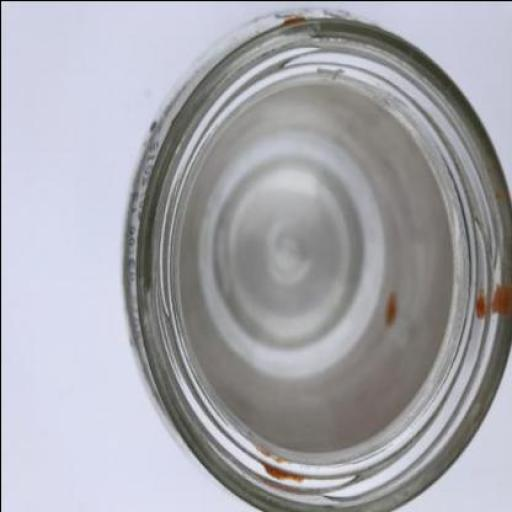glass: (120, 1, 510, 511)
